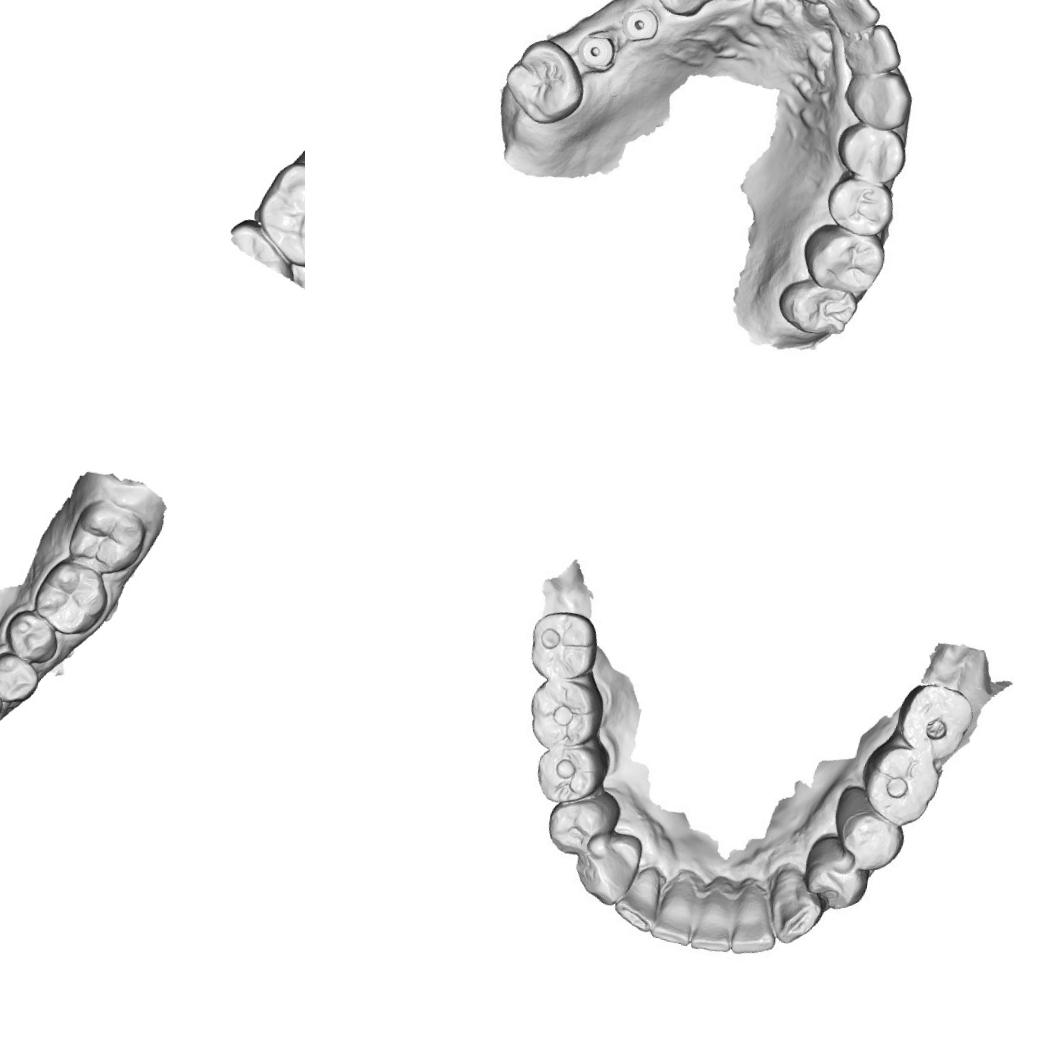canine: (765, 862, 830, 951), (572, 830, 641, 908), (842, 61, 914, 134), (641, 0, 712, 20)
implant: (574, 24, 624, 76), (618, 1, 664, 47)
incisor: (688, 876, 745, 958), (610, 860, 671, 936), (724, 883, 784, 959), (651, 870, 703, 948), (845, 16, 906, 78), (821, 0, 887, 38)
molar: (496, 28, 592, 132), (856, 738, 946, 832), (890, 675, 978, 767), (63, 493, 152, 581), (518, 671, 609, 757), (28, 553, 115, 641), (796, 219, 888, 296), (247, 154, 305, 273), (523, 604, 604, 688), (774, 272, 861, 345)
premolar: (541, 784, 622, 864), (527, 737, 611, 812), (830, 802, 907, 879), (799, 840, 874, 918), (832, 118, 910, 188), (820, 169, 898, 238), (0, 604, 64, 666), (0, 648, 43, 708)
